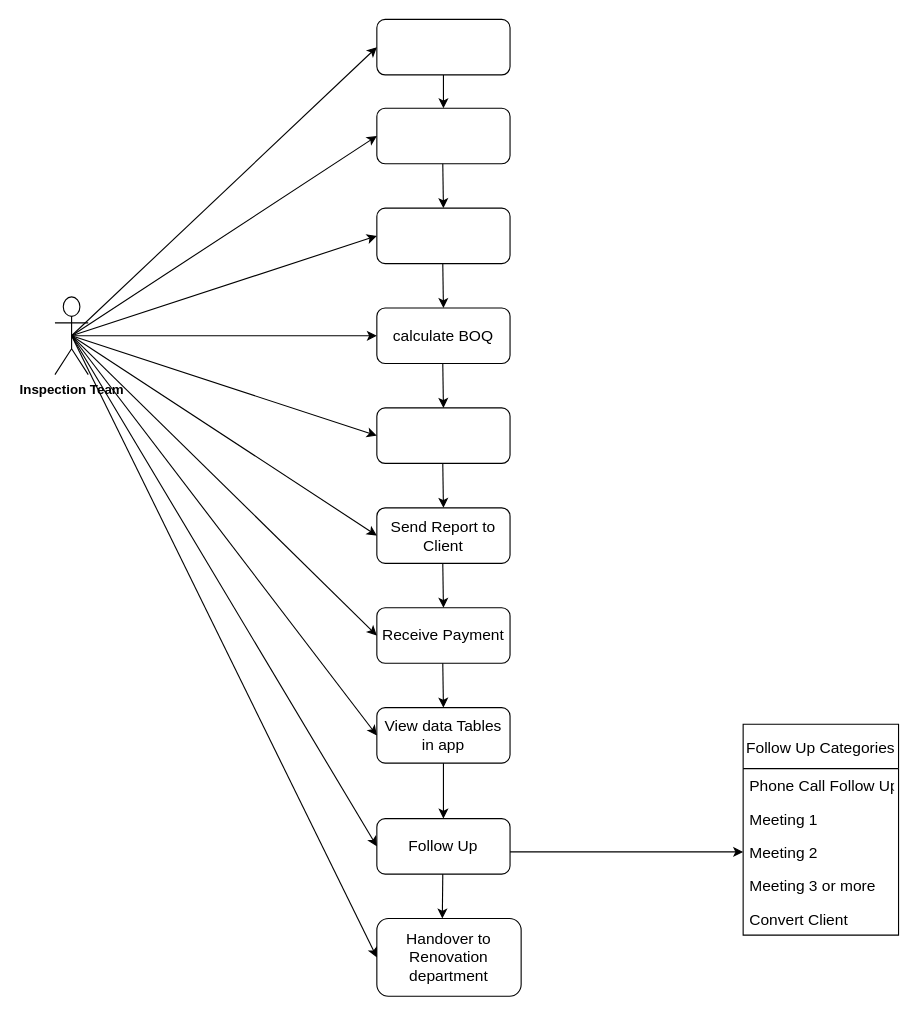
The diagram is 918 pixels wide and 1016 high, and some of its shapes have lost their labels. Here are the shapes that lost their labels. From the top down, the centre of each, then its label:
At point (443, 46): "Get Lead From Marketing Team".
At point (443, 135): "Start Inspection".
At point (443, 235): "Submit Report".
At point (443, 435): "Send Report to inspection Head".
